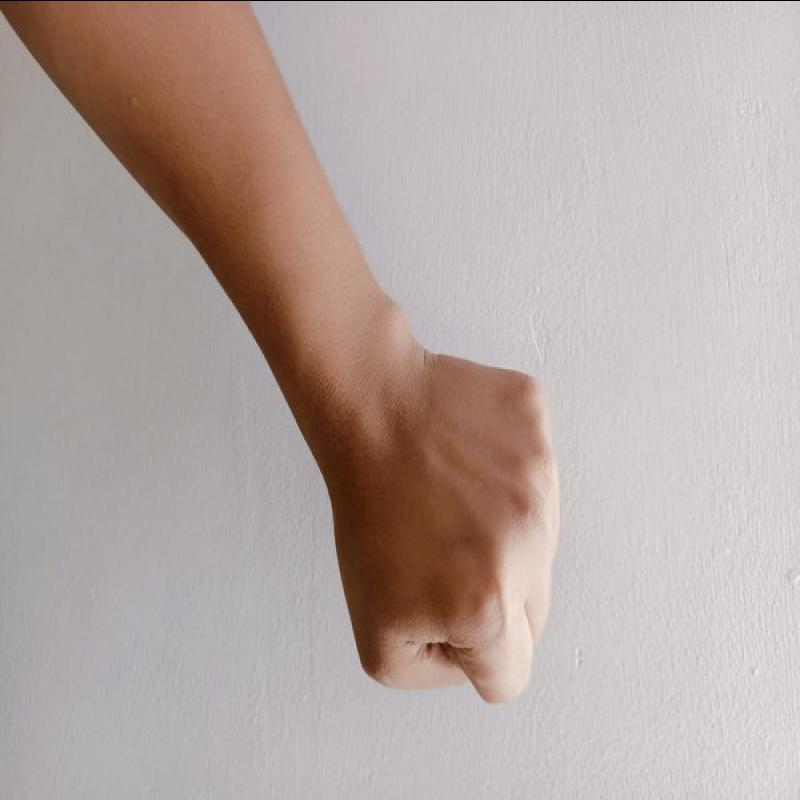Mushti: (294, 326, 588, 719)
